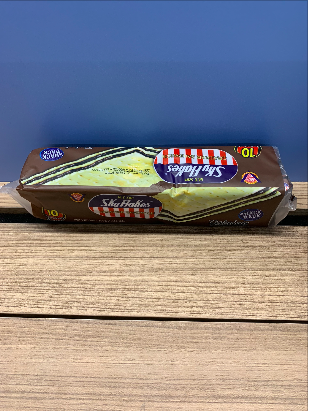Crackers_300-399g: (37, 146, 269, 224)
